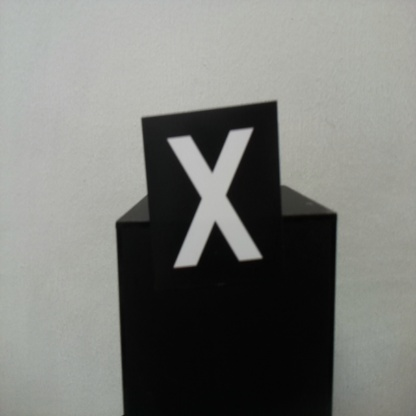id_13: (141, 117, 283, 293)
